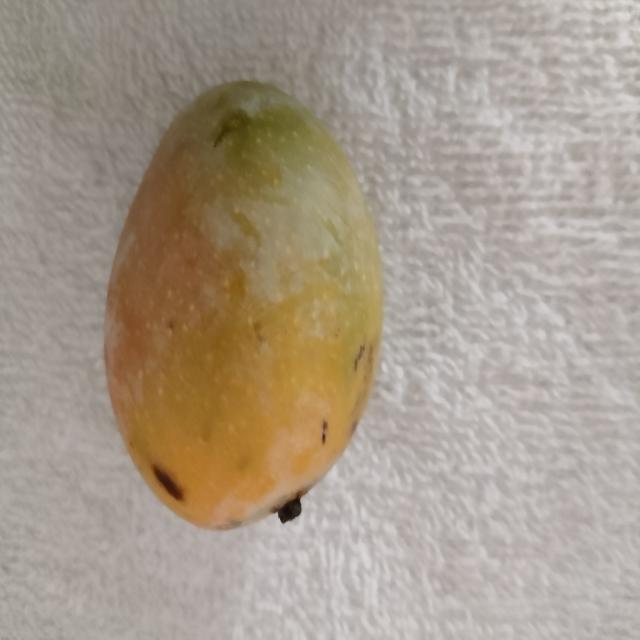mango: (105, 83, 382, 528)
